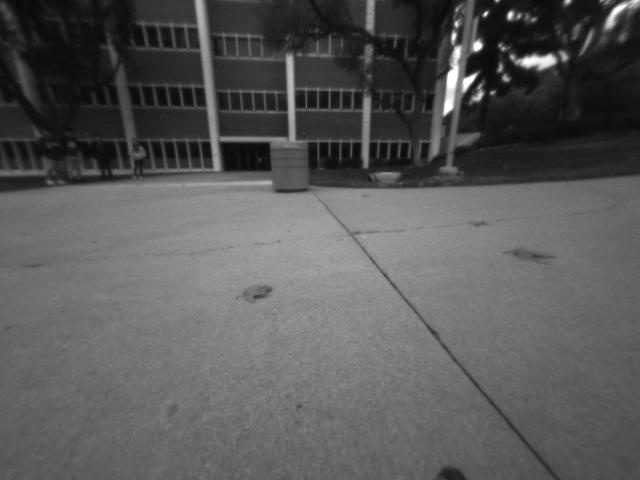trashcan: (271, 141, 310, 195)
